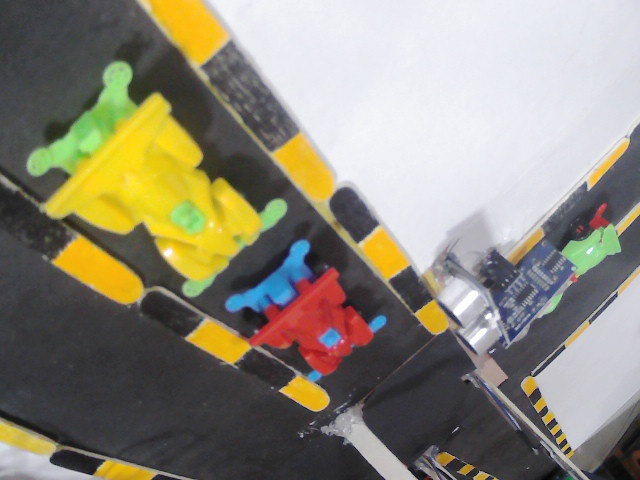car: (24, 64, 286, 297), (227, 237, 388, 384), (545, 204, 623, 312)
uno_breadboard: (502, 240, 569, 338), (421, 289, 519, 353)
